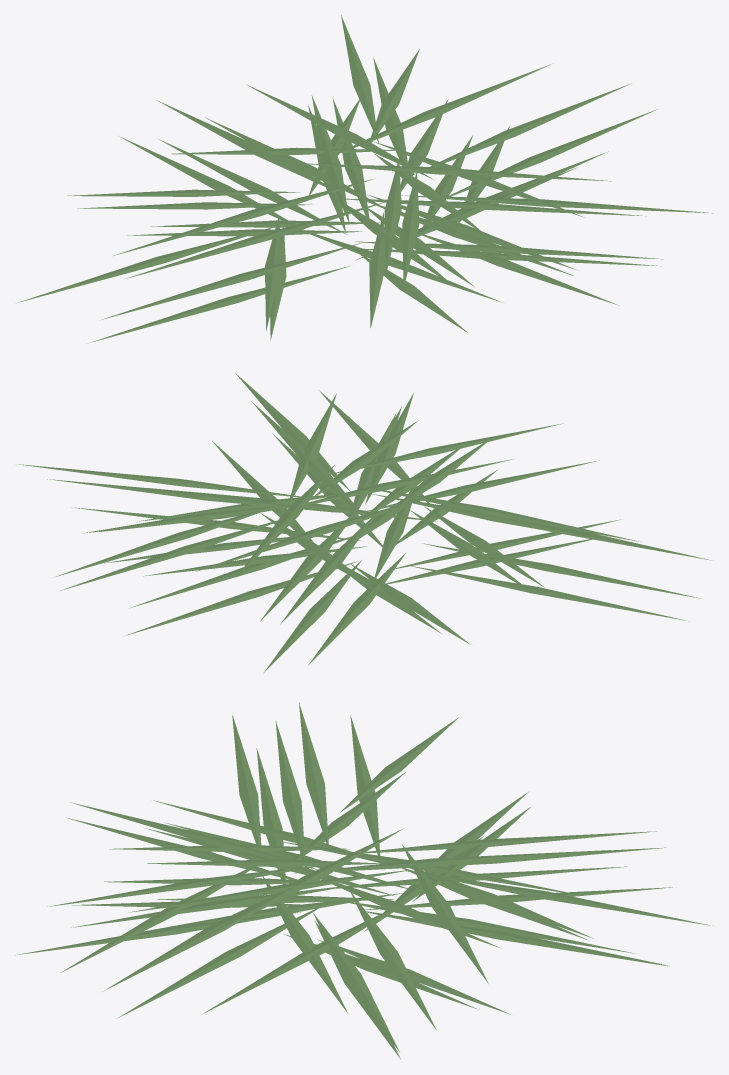
The model's file is v03_grass.fbx.
3 views of the same model, one above another, from view 1: azimuth 30°, elevation 25°; view 2: azimuth 150°, elevation 25°; view 3: azimuth 270°, elevation 25° (orthographic). The views are drawn at different scales.
Parts seen in each view (by area): view 1: v03_grass.003; view 2: v03_grass.003; view 3: v03_grass.003.
Boxes of the visible parts, x1,y1,x2,y2 form: v03_grass.003: (17,15,712,343); v03_grass.003: (16,373,710,673); v03_grass.003: (15,703,712,1059).
Size of the model in its own units: 11226 by 13483 by 1227.
